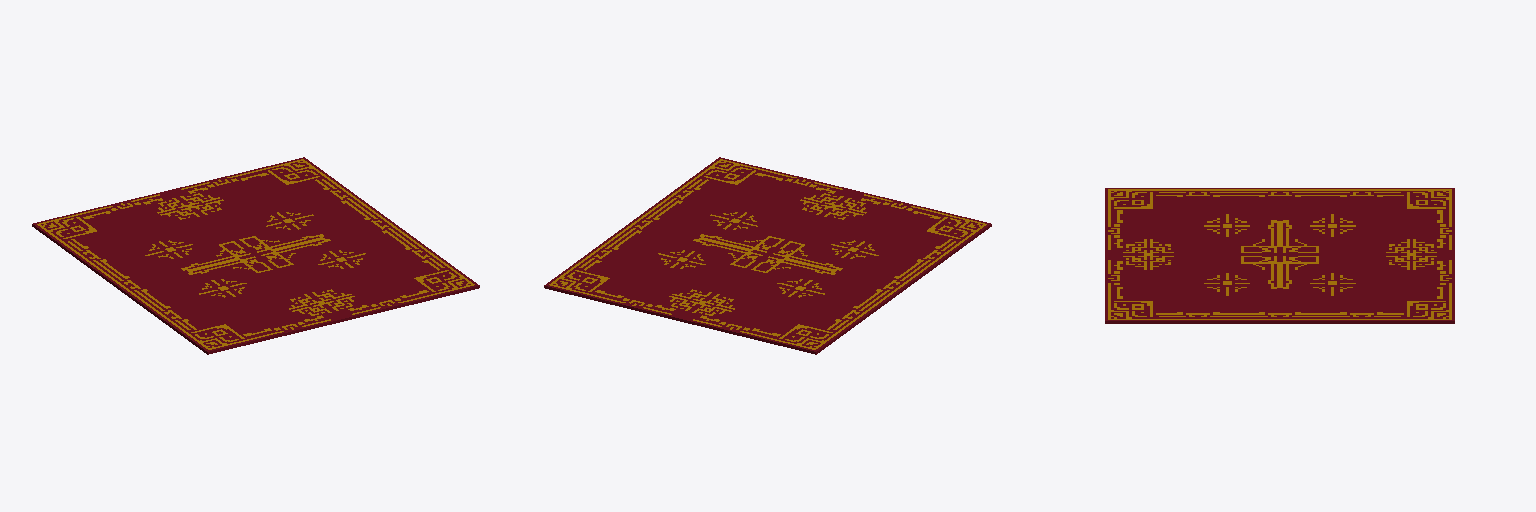
3 views of the same model, side by side, from view 1: azimuth 30°, elevation 25°; view 2: azimuth 150°, elevation 25°; view 3: azimuth 270°, elevation 25° (orthographic).
Parts seen in each view (by area): view 1: object 1; view 2: object 1; view 3: object 1.
Part boxes in pixels (bbox=[...]): object 1: bbox=[32, 157, 479, 354]; object 1: bbox=[544, 157, 991, 354]; object 1: bbox=[1105, 188, 1454, 323].
Size of the model in its own units: 10.4 by 0.1 by 11.6.
1 materials, 1 textured.